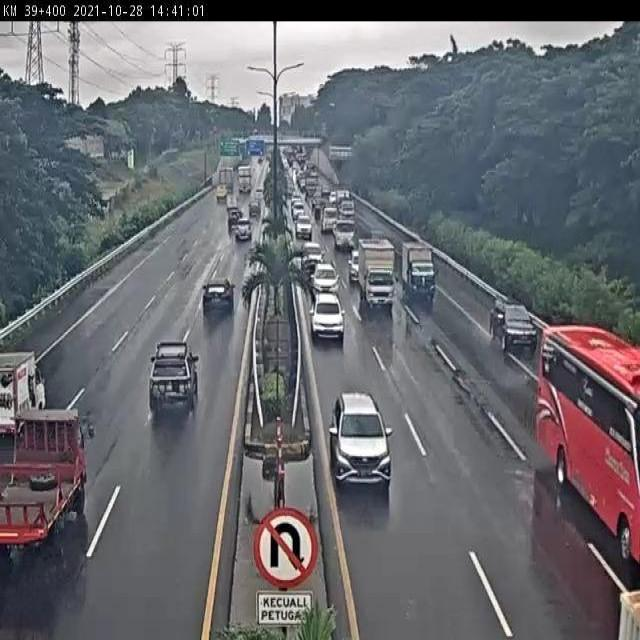car: (331, 393, 393, 487), (148, 339, 203, 417), (488, 295, 539, 352), (308, 293, 346, 343), (201, 275, 237, 313), (309, 258, 341, 294)
mid truck: (0, 404, 87, 557)
small truck: (0, 346, 46, 434)
truck-m-: (358, 236, 396, 311)
truck-s-: (400, 240, 437, 303)
